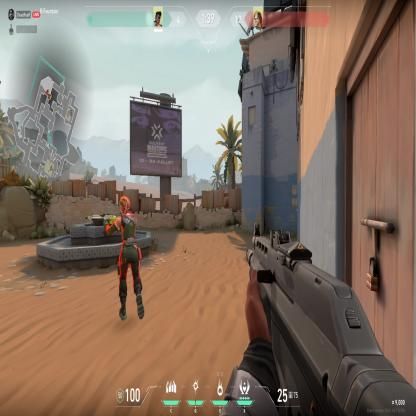enemy: (104, 194, 146, 324)
